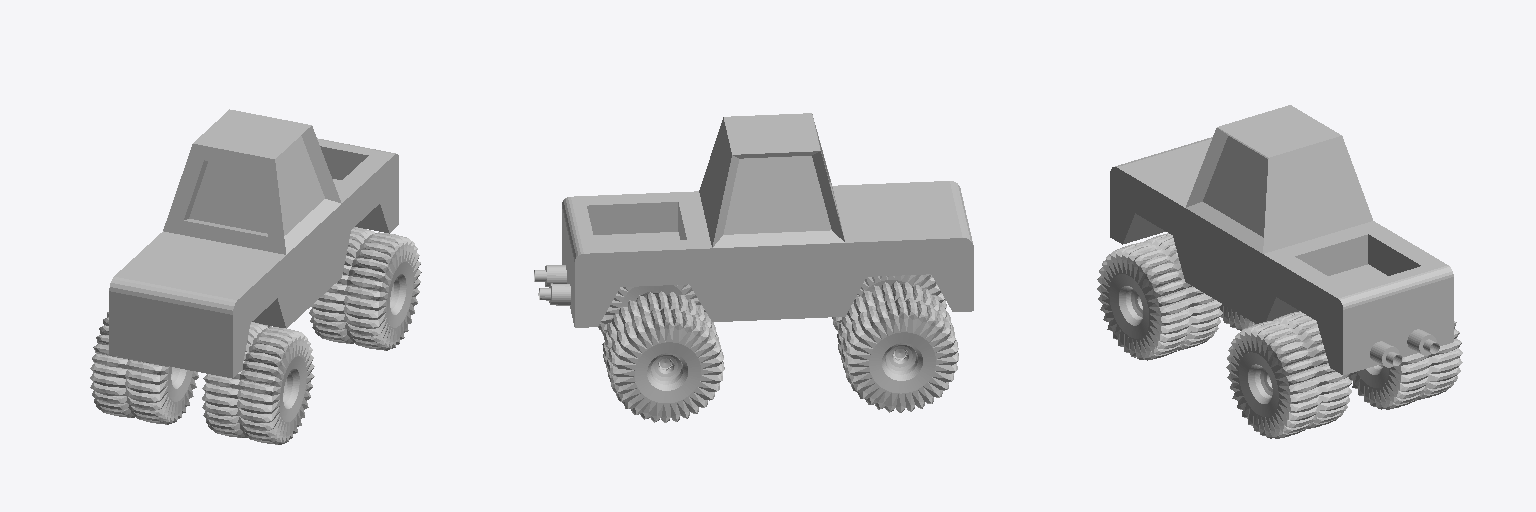
Rendered from monster_truck4.obj.
3 renders of one model, left to right at view 1: azimuth 30°, elevation 25°; view 2: azimuth 150°, elevation 25°; view 3: azimuth 270°, elevation 25°, orthographic.
Parts seen in each view (by area): view 1: Cilindro_Cilindro.001; view 2: Cilindro_Cilindro.001; view 3: Cilindro_Cilindro.001.
Part boxes in pixels (bbox=[...]): Cilindro_Cilindro.001: bbox=[90, 109, 421, 444]; Cilindro_Cilindro.001: bbox=[534, 113, 973, 422]; Cilindro_Cilindro.001: bbox=[1097, 105, 1462, 438].
Size of the model in its own units: 6.04 by 3.99 by 5.39.